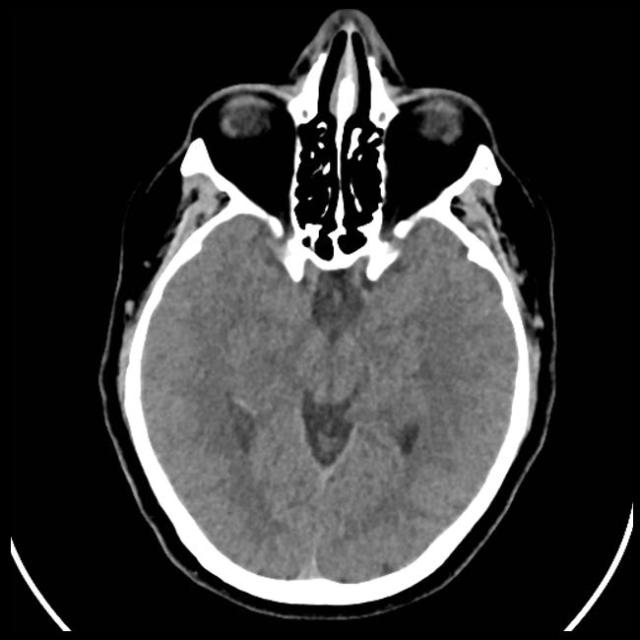lesion: (97, 9, 561, 609)
